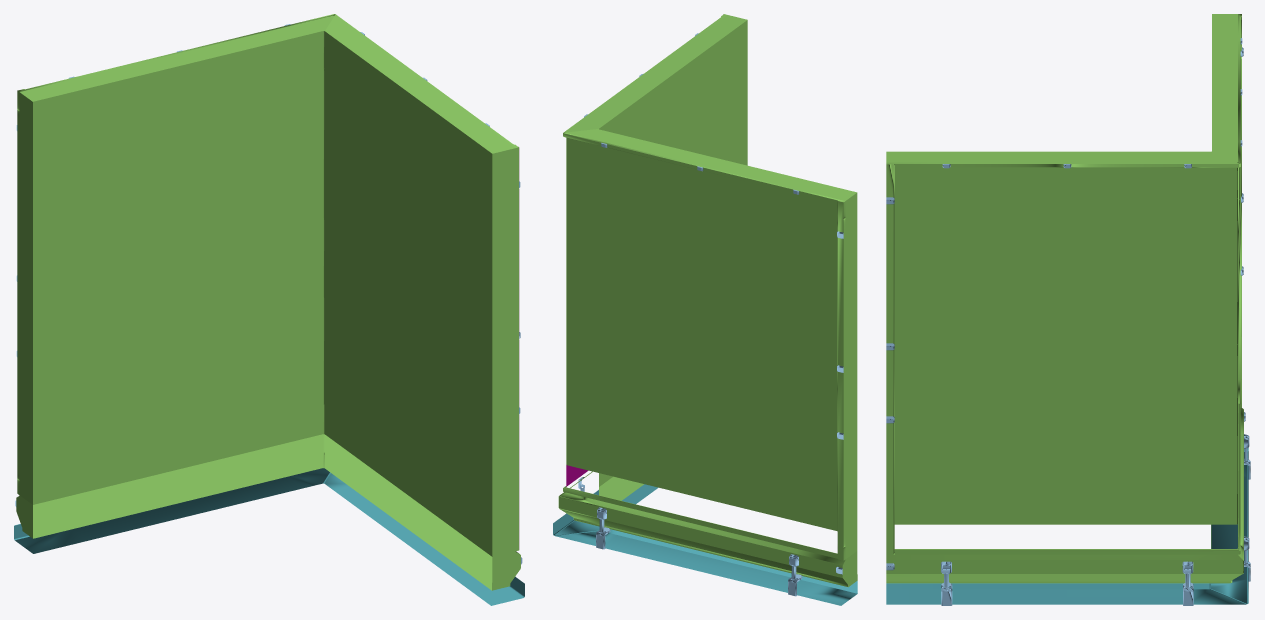
Rendered from roomslg_b_wall_corner_out_06x06x08_a.glb.
The picture shows the model from 3 angles, left to right: view 1: azimuth 30°, elevation 25°; view 2: azimuth 150°, elevation 25°; view 3: azimuth 270°, elevation 25°; orthographic projection. The views are drawn at different scales.
Bounding box in the file's own units: 6.04 × 8 × 6.04.
